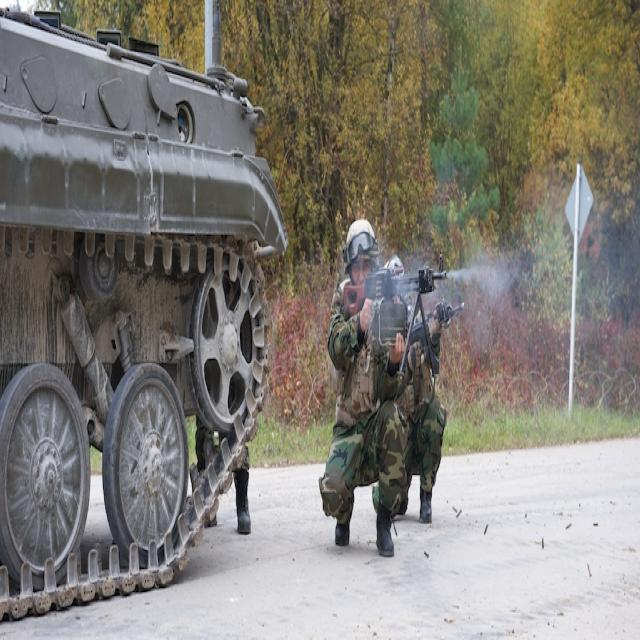tank: (0, 0, 288, 614)
